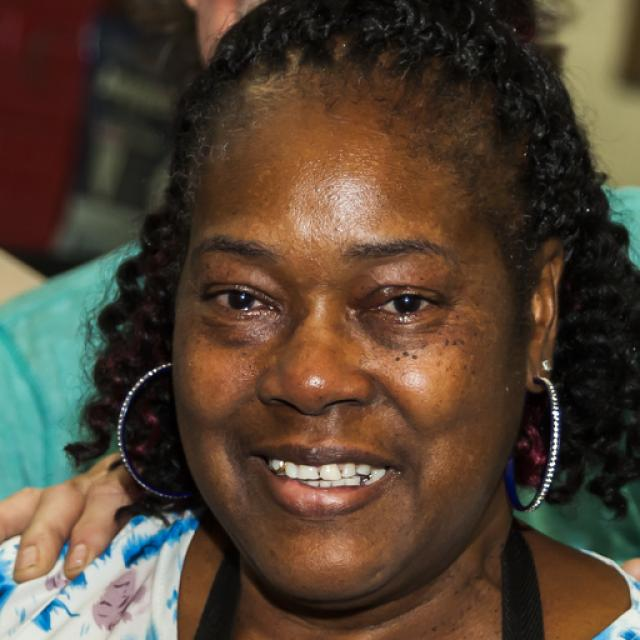Pigmentation: (383, 351, 460, 434)
